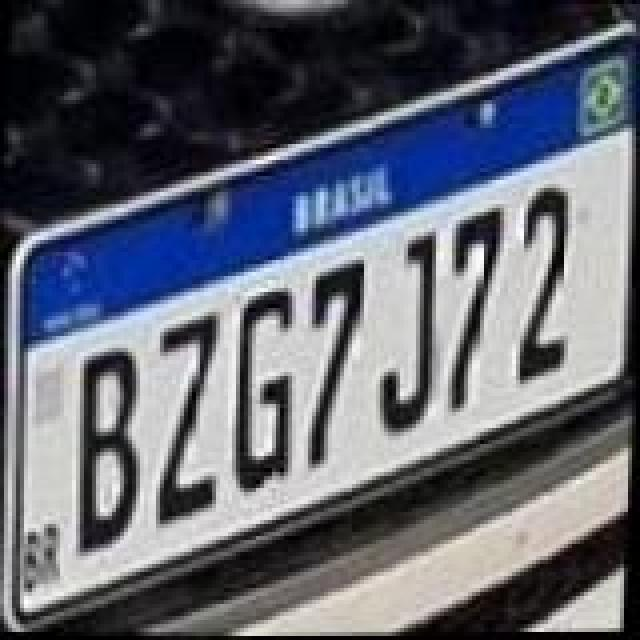2: (506, 178, 578, 386)
7: (298, 252, 370, 468), (436, 208, 508, 416)
B: (68, 338, 152, 554)
G: (222, 278, 302, 494)
J: (370, 222, 446, 434)
Z: (146, 304, 230, 532)
